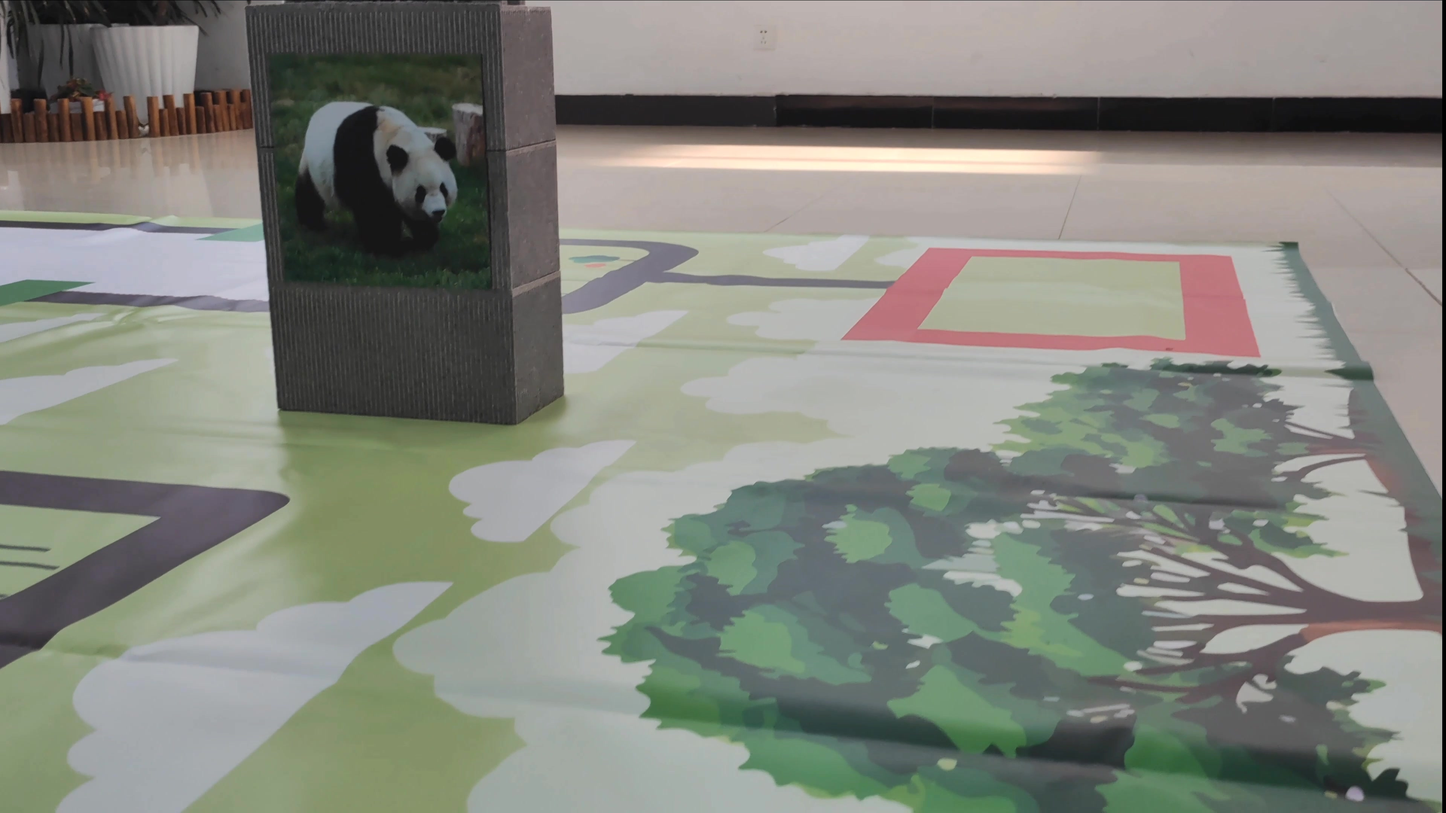panda: (297, 59, 503, 272)
